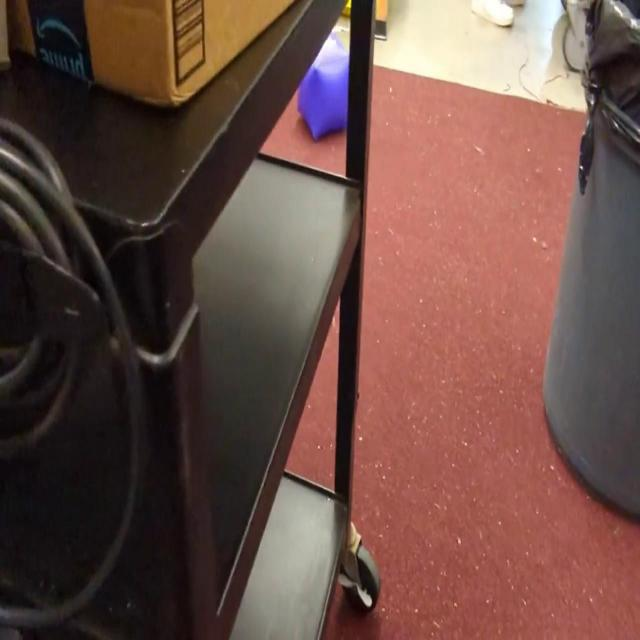frc_cube: (296, 36, 351, 140)
